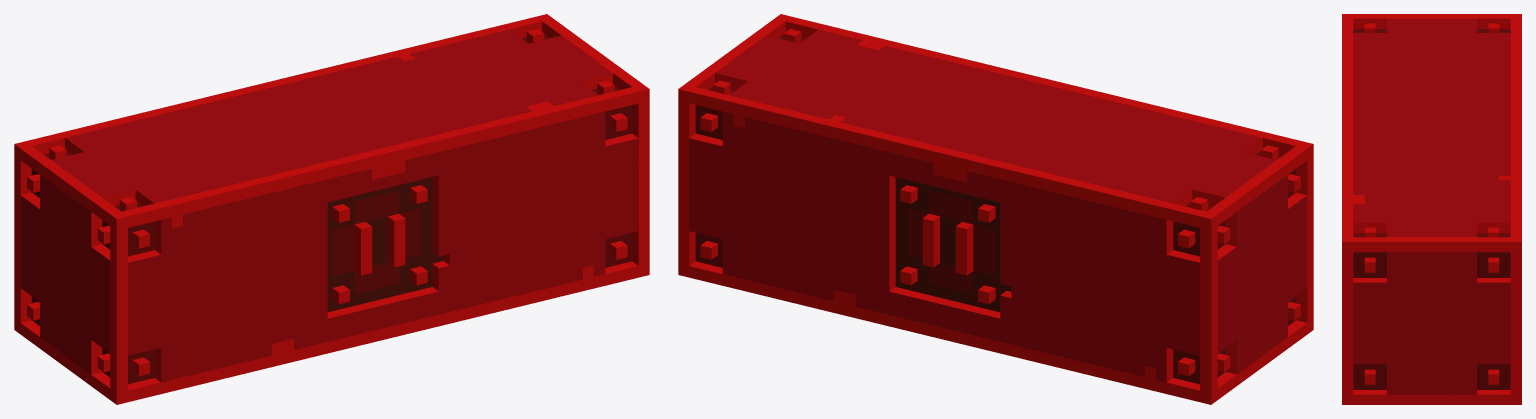
File: lava_spin_3x1ao.fezao.glb
3 renders of one model, left to right at view 1: azimuth 30°, elevation 25°; view 2: azimuth 150°, elevation 25°; view 3: azimuth 270°, elevation 25°, orthographic. The views are drawn at different scales.
Visible parts, largest first — view 1: LAVA_SPIN_3X1AO; view 2: LAVA_SPIN_3X1AO; view 3: LAVA_SPIN_3X1AO.
Boxes of the visible parts, x1,y1,x2,y2 form: LAVA_SPIN_3X1AO: (14, 14, 649, 404); LAVA_SPIN_3X1AO: (678, 14, 1313, 404); LAVA_SPIN_3X1AO: (1342, 14, 1521, 404).
Size of the model in its own units: 3 by 1 by 1.
Materials: 1 (1 with a texture image).
